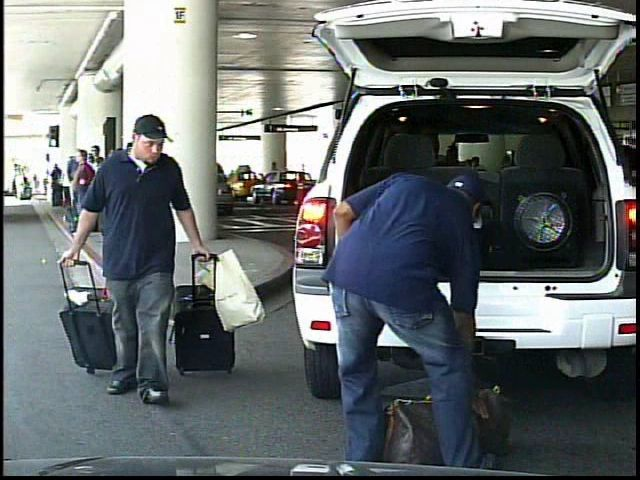person: (321, 128, 507, 476), (75, 113, 227, 416), (269, 160, 281, 196), (14, 169, 25, 200)
